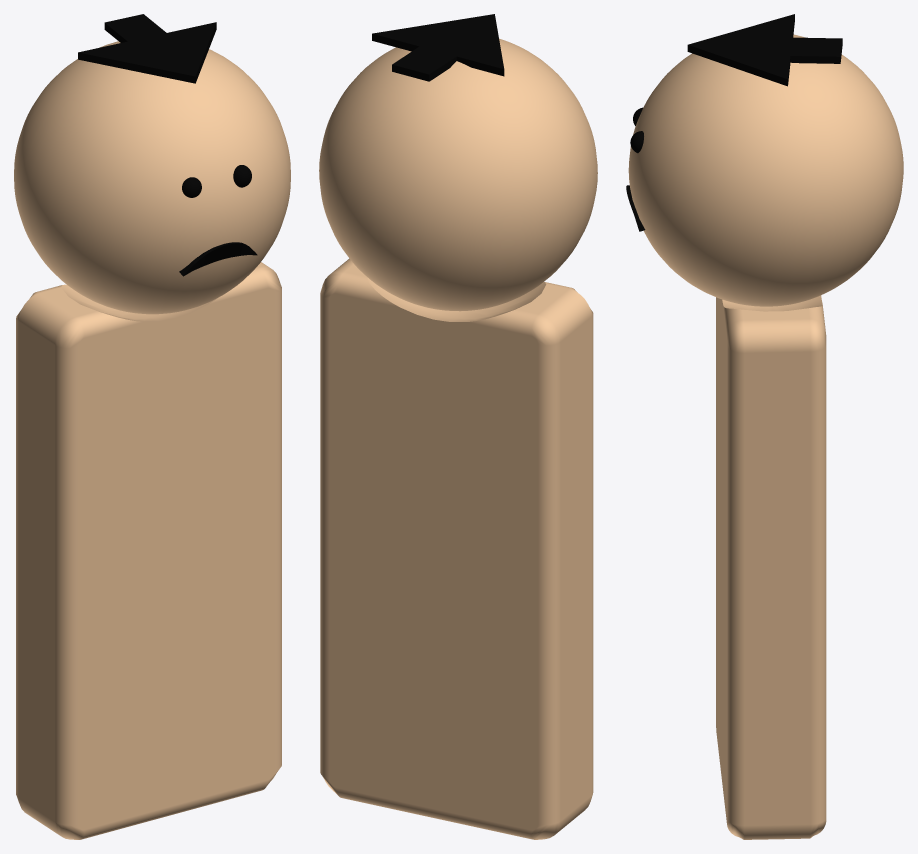
Rendered from bsad.obj.
The picture shows the model from 3 angles, left to right: view 1: azimuth 30°, elevation 25°; view 2: azimuth 150°, elevation 25°; view 3: azimuth 270°, elevation 25°; orthographic projection.
Parts seen in each view (by area): view 1: 1_Curve.002_Curve.001, 5.002_Curve.002_Curve.003_5.002_Curve.002_Curve.001; view 2: 1_Curve.002_Curve.001, 5.002_Curve.002_Curve.003_5.002_Curve.002_Curve.001; view 3: 1_Curve.002_Curve.001, 5.002_Curve.002_Curve.003_5.002_Curve.002_Curve.001.
Part boxes in pixels (<box>): 1_Curve.002_Curve.001: <box>14,41,290,839</box>; 5.002_Curve.002_Curve.003_5.002_Curve.002_Curve.001: <box>78,14,257,276</box>; 1_Curve.002_Curve.001: <box>319,38,597,839</box>; 5.002_Curve.002_Curve.003_5.002_Curve.002_Curve.001: <box>372,14,504,81</box>; 1_Curve.002_Curve.001: <box>628,34,903,839</box>; 5.002_Curve.002_Curve.003_5.002_Curve.002_Curve.001: <box>626,14,842,231</box>.
Size of the model in its own units: 0.166 by 0.4993 by 0.1677.
